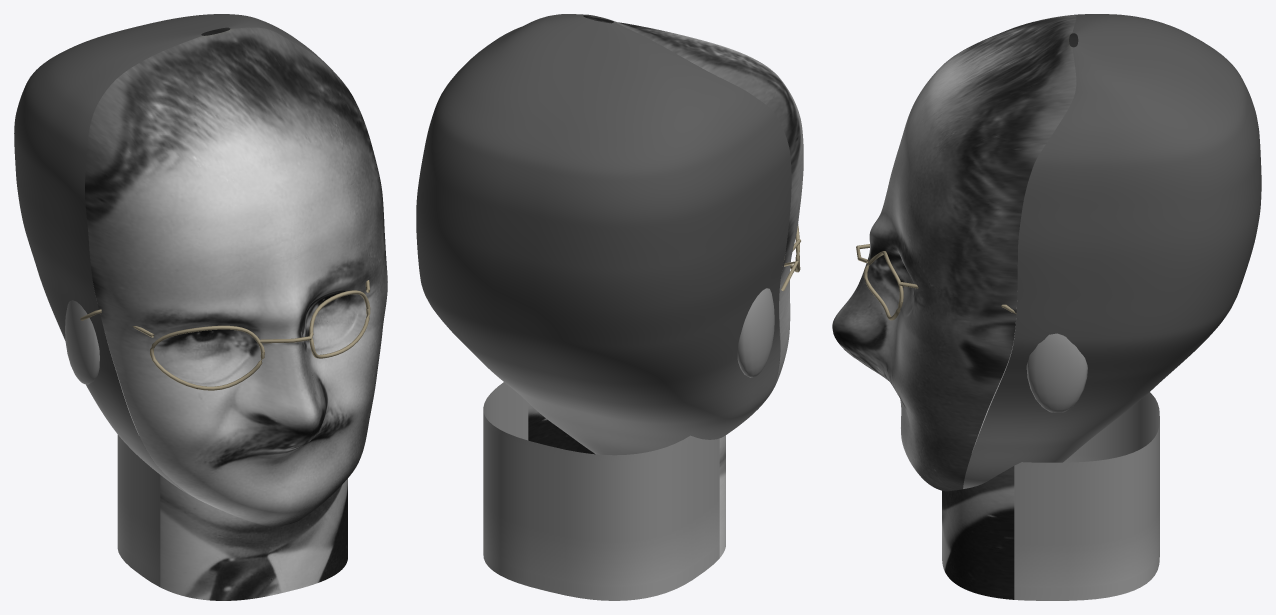
File: molotov_face.glb
3 renders of one model, left to right at view 1: azimuth 30°, elevation 25°; view 2: azimuth 150°, elevation 25°; view 3: azimuth 270°, elevation 25°, orthographic. The views are drawn at different scales.
Parts seen in each view (by area): view 1: molotov_head; view 2: molotov_head; view 3: molotov_head.
Boxes of the visible parts, x1=… form: molotov_head: x1=14, y1=14, x2=387, y2=600; molotov_head: x1=416, y1=14, x2=803, y2=600; molotov_head: x1=832, y1=14, x2=1261, y2=600.
Bounding box in the file's own units: 0.1515 × 0.2492 × 0.1891.
2 materials, 1 textured.
